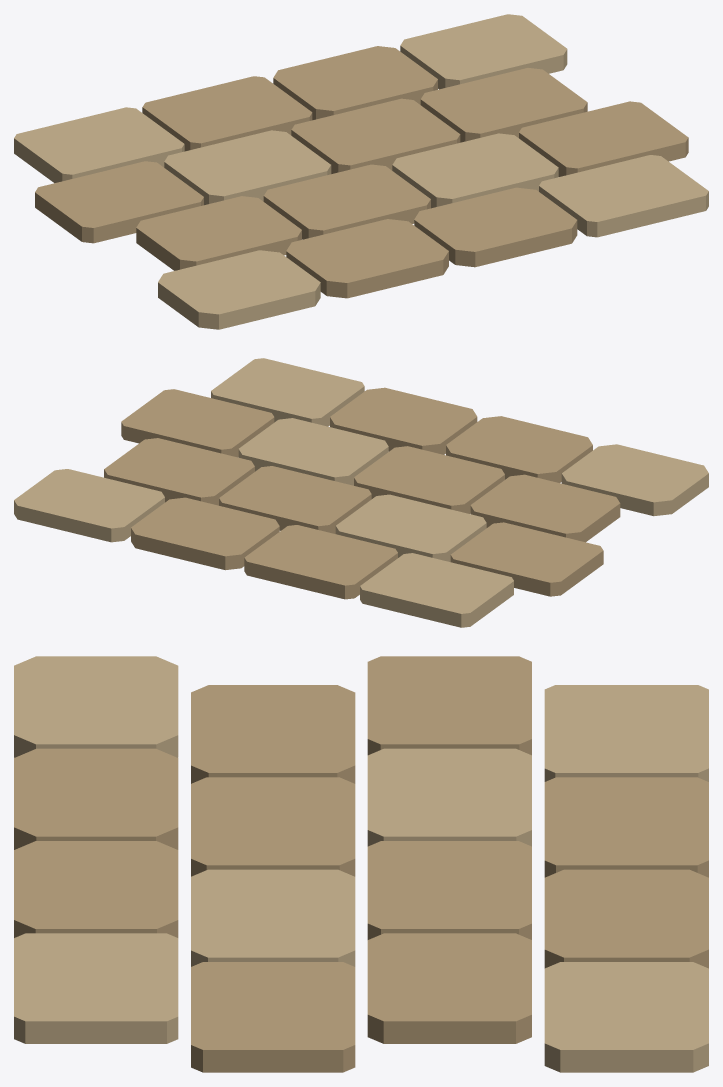
File: Paving.glb
The picture shows the model from 3 angles, top to bottom: view 1: azimuth 30°, elevation 25°; view 2: azimuth 150°, elevation 25°; view 3: azimuth 270°, elevation 25°; orthographic projection. The views are drawn at different scales.
Visible parts, largest first — view 1: Hand-cut flagstone, Hand-cut flagstone.003, Hand-cut flagstone.002, Hand-cut flagstone.001, Hand-cut flagstone.008, Hand-cut flagstone.012, Hand-cut flagstone.004, Hand-cut flagstone.007, Hand-cut flagstone.015, Hand-cut flagstone.005, Hand-cut flagstone.010, Hand-cut flagstone.013 (+4 smaller); view 2: Hand-cut flagstone.012, Hand-cut flagstone.013, Hand-cut flagstone.015, Hand-cut flagstone.014, Hand-cut flagstone.008, Hand-cut flagstone, Hand-cut flagstone.004, Hand-cut flagstone.007, Hand-cut flagstone.003, Hand-cut flagstone.010, Hand-cut flagstone.005, Hand-cut flagstone.011 (+4 smaller); view 3: Hand-cut flagstone.003, Hand-cut flagstone.007, Hand-cut flagstone.015, Hand-cut flagstone.011, Hand-cut flagstone.013, Hand-cut flagstone.008, Hand-cut flagstone.010, Hand-cut flagstone.005, Hand-cut flagstone.012, Hand-cut flagstone, Hand-cut flagstone.001, Hand-cut flagstone.004 (+4 smaller).
Boxes of the visible parts, <box> form: Hand-cut flagstone: <box>158,250,320,329</box>; Hand-cut flagstone.003: <box>539,155,708,237</box>; Hand-cut flagstone.002: <box>414,187,577,267</box>; Hand-cut flagstone.001: <box>286,219,448,298</box>; Hand-cut flagstone.008: <box>35,161,203,243</box>; Hand-cut flagstone.012: <box>14,107,184,183</box>; Hand-cut flagstone.004: <box>136,196,301,270</box>; Hand-cut flagstone.007: <box>519,101,688,176</box>; Hand-cut flagstone.015: <box>400,14,567,89</box>; Hand-cut flagstone.005: <box>263,164,430,239</box>; Hand-cut flagstone.010: <box>291,98,460,173</box>; Hand-cut flagstone.013: <box>142,76,312,151</box>; Hand-cut flagstone.012: <box>360,553,513,627</box>; Hand-cut flagstone.013: <box>244,525,397,599</box>; Hand-cut flagstone.015: <box>14,469,164,542</box>; Hand-cut flagstone.014: <box>131,497,279,570</box>; Hand-cut flagstone.008: <box>450,522,603,596</box>; Hand-cut flagstone: <box>561,444,708,516</box>; Hand-cut flagstone.004: <box>470,474,620,542</box>; Hand-cut flagstone.007: <box>121,389,274,457</box>; Hand-cut flagstone.003: <box>211,358,364,426</box>; Hand-cut flagstone.010: <box>219,466,371,533</box>; Hand-cut flagstone.005: <box>354,446,504,513</box>; Hand-cut flagstone.011: <box>104,438,254,505</box>; Hand-cut flagstone.003: <box>14,933,178,1043</box>; Hand-cut flagstone.007: <box>191,962,355,1072</box>; Hand-cut flagstone.015: <box>544,962,708,1072</box>; Hand-cut flagstone.011: <box>367,933,531,1043</box>; Hand-cut flagstone.013: <box>544,777,708,877</box>; Hand-cut flagstone.008: <box>367,656,531,755</box>; Hand-cut flagstone.010: <box>367,841,531,939</box>; Hand-cut flagstone.005: <box>191,777,355,876</box>; Hand-cut flagstone.012: <box>544,685,708,781</box>; Hand-cut flagstone: <box>14,656,178,757</box>; Hand-cut flagstone.001: <box>14,748,178,849</box>; Hand-cut flagstone.004: <box>191,685,355,783</box>.
Size of the model in its own units: 8.95 by 0.24 by 6.68.
